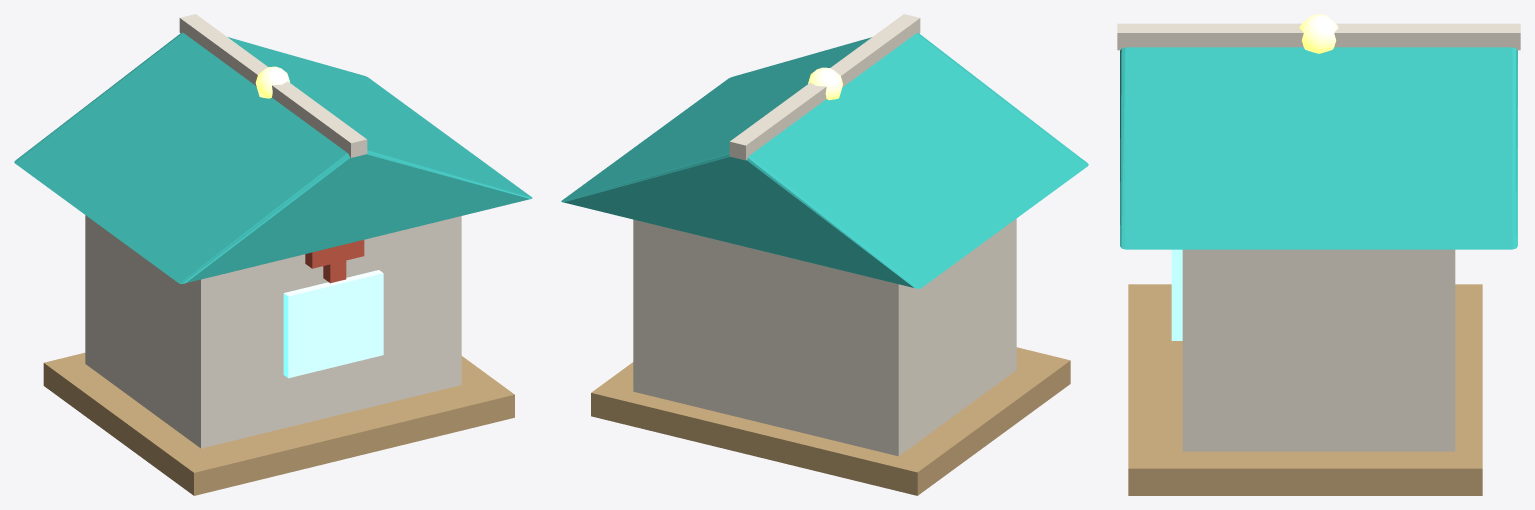
The model's file is first-aid-post.glb.
The picture shows the model from 3 angles, left to right: view 1: azimuth 30°, elevation 25°; view 2: azimuth 150°, elevation 25°; view 3: azimuth 270°, elevation 25°; orthographic projection. The views are drawn at different scales.
Visible parts, largest first — view 1: Mesh_turquoise, Mesh_warmWhite, Mesh_sandStone, Mesh_glowCyan, Mesh_coral, Mesh_glowWarm; view 2: Mesh_turquoise, Mesh_warmWhite, Mesh_sandStone, Mesh_glowWarm; view 3: Mesh_turquoise, Mesh_warmWhite, Mesh_sandStone, Mesh_glowWarm, Mesh_glowCyan.
Part boxes in pixels (<box>): Mesh_turquoise: <box>14,32,532,283</box>; Mesh_warmWhite: <box>85,14,461,448</box>; Mesh_sandStone: <box>43,352,514,495</box>; Mesh_glowCyan: <box>283,270,383,378</box>; Mesh_coral: <box>305,240,364,283</box>; Mesh_glowWarm: <box>255,66,289,98</box>; Mesh_turquoise: <box>561,33,1088,288</box>; Mesh_warmWhite: <box>633,14,1016,456</box>; Mesh_sandStone: <box>591,347,1070,495</box>; Mesh_glowWarm: <box>808,67,842,100</box>; Mesh_turquoise: <box>1120,47,1517,249</box>; Mesh_warmWhite: <box>1117,23,1520,451</box>; Mesh_sandStone: <box>1128,284,1482,495</box>; Mesh_glowWarm: <box>1299,14,1338,53</box>; Mesh_glowCyan: <box>1171,249,1182,340</box>.
Bounding box in the file's own units: 3.52 × 3.14 × 2.96.
